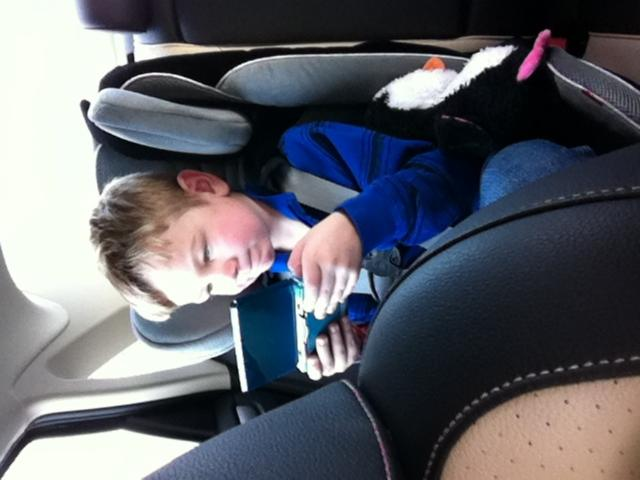Seatbelt: (264, 161, 453, 251)
